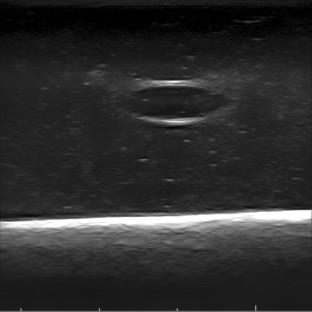vessel: (124, 80, 229, 125)
